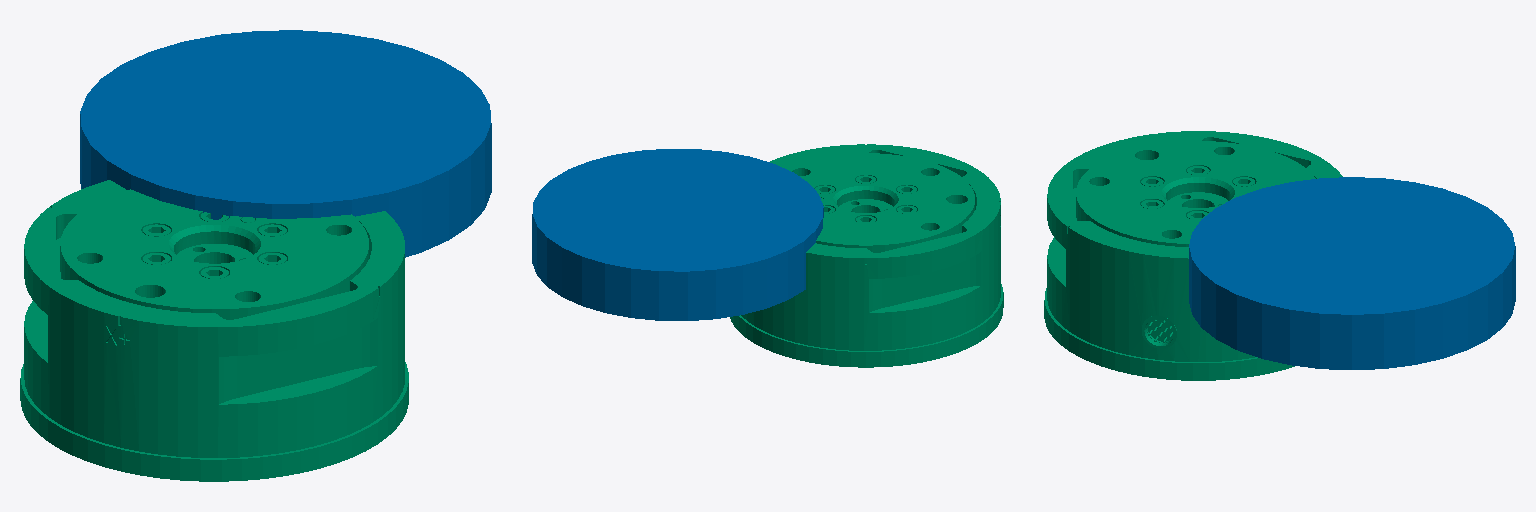
robot.urdf — iiwa14:
<?xml version="1.0" encoding="utf-8"?>
<!-- =================================================================================== -->
<!-- |    This document was autogenerated by xacro from iiwa14.urdf.xacro              | -->
<!-- |    EDITING THIS FILE BY HAND IS NOT RECOMMENDED                                 | -->
<!-- =================================================================================== -->
<robot name="iiwa14">
  <material name="Black">
    <color rgba="0.0 0.0 0.0 1.0"/>
  </material>
  <material name="Blue">
    <color rgba="0.0 0.0 0.8 1.0"/>
  </material>
  <material name="Green">
    <color rgba="0.0 0.8 0.0 1.0"/>
  </material>
  <material name="Grey">
    <color rgba="0.4 0.4 0.4 1.0"/>
  </material>
  <material name="Orange">
    <color rgba="1.0 0.423529411765 0.0392156862745 1.0"/>
  </material>
  <material name="Brown">
    <color rgba="0.870588235294 0.811764705882 0.764705882353 1.0"/>
  </material>
  <material name="Red">
    <color rgba="0.8 0.0 0.0 1.0"/>
  </material>
  <material name="White">
    <color rgba="1.0 1.0 1.0 1.0"/>
  </material>
  <!-- Fix to world just for testing -->
  <link name="iiwa_world">
    <inertial>
      <mass value="0"/>
      <inertia ixx="0.0" ixy="0" ixz="0" iyy="0.0" iyz="0" izz="0.0"/>
    </inertial>
  </link>
  <!-- joint between {parent} and link_0 -->
  <joint name="world_iiwa_joint" type="fixed">
    <origin rpy="0 0 0" xyz="0 0 0"/>
    <parent link="iiwa_world"/>
    <child link="iiwa_link_0"/>
  </joint>
  <link name="iiwa_link_0">
    <inertial>
      <origin rpy="0 0 0" xyz="-0.1 0 0.07"/>
      <mass value="5"/>
      <inertia ixx="0.05" ixy="0" ixz="0" iyy="0.06" iyz="0" izz="0.03"/>
    </inertial>
    <visual>
      <origin rpy="0 0 0" xyz="0 0 0"/>
      <geometry>
        <mesh filename="meshes/iiwa14/visual/link_0.stl"/>
      </geometry>
      <material name="Grey"/>
    </visual>
    <collision>
      <origin rpy="0 0 0" xyz="0 0 0"/>
      <geometry>
        <mesh filename="meshes/iiwa14/collision/link_0.stl"/>
      </geometry>
      <material name="Grey"/>
    </collision>
    <self_collision_checking>
      <origin rpy="0 0 0" xyz="0 0 0"/>
      <geometry>
        <capsule length="0.25" radius="0.15"/>
      </geometry>
    </self_collision_checking>
  </link>
  <!-- joint between link_0 and link_1 -->
  <joint name="iiwa_joint_1" type="revolute">
    <parent link="iiwa_link_0"/>
    <child link="iiwa_link_1"/>
    <origin rpy="0 0 0" xyz="0 0 0.1575"/>
    <axis xyz="0 0 1"/>
    <limit effort="300" lower="-2.96705972839" upper="2.96705972839" velocity="10"/>
    <safety_controller k_position="100" k_velocity="2" soft_lower_limit="-2.93215314335" soft_upper_limit="2.93215314335"/>
    <dynamics damping="0.5"/>
  </joint>
  <link name="iiwa_link_1">
    <inertial>
      <origin rpy="0 0 0" xyz="0 -0.03 0.12"/>
      <mass value="4"/>
      <inertia ixx="0.1" ixy="0" ixz="0" iyy="0.09" iyz="0" izz="0.02"/>
    </inertial>
    <visual>
      <origin rpy="0 0 0" xyz="0 0 0"/>
      <geometry>
        <mesh filename="meshes/iiwa14/visual/link_1.stl"/>
      </geometry>
      <material name="Orange"/>
    </visual>
    <collision>
      <origin rpy="0 0 0" xyz="0 0 0"/>
      <geometry>
        <mesh filename="meshes/iiwa14/collision/link_1.stl"/>
      </geometry>
      <material name="Orange"/>
    </collision>
  </link>
  <!-- joint between link_1 and link_2 -->
  <joint name="iiwa_joint_2" type="revolute">
    <parent link="iiwa_link_1"/>
    <child link="iiwa_link_2"/>
    <origin rpy="1.57079632679   0 3.14159265359" xyz="0 0 0.2025"/>
    <axis xyz="0 0 1"/>
    <limit effort="300" lower="-2.09439510239" upper="2.09439510239" velocity="10"/>
    <safety_controller k_position="100" k_velocity="2" soft_lower_limit="-2.05948851735" soft_upper_limit="2.05948851735"/>
    <dynamics damping="0.5"/>
  </joint>
  <link name="iiwa_link_2">
    <inertial>
      <origin rpy="0 0 0" xyz="0.0003 0.059 0.042"/>
      <mass value="4"/>
      <inertia ixx="0.05" ixy="0" ixz="0" iyy="0.018" iyz="0" izz="0.044"/>
    </inertial>
    <visual>
      <origin rpy="0 0 0" xyz="0 0 0"/>
      <geometry>
        <mesh filename="meshes/iiwa14/visual/link_2.stl"/>
      </geometry>
      <material name="Orange"/>
    </visual>
    <collision>
      <origin rpy="0 0 0" xyz="0 0 0"/>
      <geometry>
        <mesh filename="meshes/iiwa14/collision/link_2.stl"/>
      </geometry>
      <material name="Orange"/>
    </collision>
  </link>
  <!-- joint between link_2 and link_3 -->
  <joint name="iiwa_joint_3" type="revolute">
    <parent link="iiwa_link_2"/>
    <child link="iiwa_link_3"/>
    <origin rpy="1.57079632679 0 3.14159265359" xyz="0 0.2045 0"/>
    <axis xyz="0 0 1"/>
    <limit effort="300" lower="-2.96705972839" upper="2.96705972839" velocity="10"/>
    <safety_controller k_position="100" k_velocity="2" soft_lower_limit="-2.93215314335" soft_upper_limit="2.93215314335"/>
    <dynamics damping="0.5"/>
  </joint>
  <link name="iiwa_link_3">
    <inertial>
      <origin rpy="0 0 0" xyz="0 0.03 0.13"/>
      <mass value="3"/>
      <inertia ixx="0.08" ixy="0" ixz="0" iyy="0.075" iyz="0" izz="0.01"/>
    </inertial>
    <visual>
      <origin rpy="0 0 0" xyz="0 0 0"/>
      <geometry>
        <mesh filename="meshes/iiwa14/visual/link_3.stl"/>
      </geometry>
      <material name="Orange"/>
    </visual>
    <collision>
      <origin rpy="0 0 0" xyz="0 0 0"/>
      <geometry>
        <mesh filename="meshes/iiwa14/collision/link_3.stl"/>
      </geometry>
      <material name="Orange"/>
    </collision>
  </link>
  <!-- joint between link_3 and link_4 -->
  <joint name="iiwa_joint_4" type="revolute">
    <parent link="iiwa_link_3"/>
    <child link="iiwa_link_4"/>
    <origin rpy="1.57079632679 0 0" xyz="0 0 0.2155"/>
    <axis xyz="0 0 1"/>
    <limit effort="300" lower="-2.09439510239" upper="2.09439510239" velocity="10"/>
    <safety_controller k_position="100" k_velocity="2" soft_lower_limit="-2.05948851735" soft_upper_limit="2.05948851735"/>
    <dynamics damping="0.5"/>
  </joint>
  <link name="iiwa_link_4">
    <inertial>
      <origin rpy="0 0 0" xyz="0 0.067 0.034"/>
      <mass value="2.7"/>
      <inertia ixx="0.03" ixy="0" ixz="0" iyy="0.01" iyz="0" izz="0.029"/>
    </inertial>
    <visual>
      <origin rpy="0 0 0" xyz="0 0 0"/>
      <geometry>
        <mesh filename="meshes/iiwa14/visual/link_4.stl"/>
      </geometry>
      <material name="Orange"/>
    </visual>
    <collision>
      <origin rpy="0 0 0" xyz="0 0 0"/>
      <geometry>
        <mesh filename="meshes/iiwa14/collision/link_4.stl"/>
      </geometry>
      <material name="Orange"/>
    </collision>
  </link>
  <!-- joint between link_4 and link_5 -->
  <joint name="iiwa_joint_5" type="revolute">
    <parent link="iiwa_link_4"/>
    <child link="iiwa_link_5"/>
    <origin rpy="-1.57079632679 3.14159265359 0" xyz="0 0.1845 0"/>
    <axis xyz="0 0 1"/>
    <limit effort="300" lower="-2.96705972839" upper="2.96705972839" velocity="10"/>
    <safety_controller k_position="100" k_velocity="2" soft_lower_limit="-2.93215314335" soft_upper_limit="2.93215314335"/>
    <dynamics damping="0.5"/>
  </joint>
  <link name="iiwa_link_5">
    <inertial>
      <origin rpy="0 0 0" xyz="0.0001 0.021 0.076"/>
      <mass value="1.7"/>
      <inertia ixx="0.02" ixy="0" ixz="0" iyy="0.018" iyz="0" izz="0.005"/>
    </inertial>
    <visual>
      <origin rpy="0 0 0" xyz="0 0 0"/>
      <geometry>
        <mesh filename="meshes/iiwa14/visual/link_5.stl"/>
      </geometry>
      <material name="Orange"/>
    </visual>
    <collision>
      <origin rpy="0 0 0" xyz="0 0 0"/>
      <geometry>
        <mesh filename="meshes/iiwa14/collision/link_5.stl"/>
      </geometry>
      <material name="Orange"/>
    </collision>
  </link>
  <!-- joint between link_5 and link_6 -->
  <joint name="iiwa_joint_6" type="revolute">
    <parent link="iiwa_link_5"/>
    <child link="iiwa_link_6"/>
    <origin rpy="1.57079632679 0 0" xyz="0 0 0.2155"/>
    <axis xyz="0 0 1"/>
    <limit effort="300" lower="-2.09439510239" upper="2.09439510239" velocity="10"/>
    <safety_controller k_position="100" k_velocity="2" soft_lower_limit="-2.05948851735" soft_upper_limit="2.05948851735"/>
    <dynamics damping="0.5"/>
  </joint>
  <link name="iiwa_link_6">
    <inertial>
      <origin rpy="0 0 0" xyz="0 0.0006 0.0004"/>
      <mass value="1.8"/>
      <inertia ixx="0.005" ixy="0" ixz="0" iyy="0.0036" iyz="0" izz="0.0047"/>
    </inertial>
    <visual>
      <origin rpy="0 0 0" xyz="0 0 0"/>
      <geometry>
        <mesh filename="meshes/iiwa14/visual/link_6.stl"/>
      </geometry>
      <material name="Orange"/>
    </visual>
    <collision>
      <origin rpy="0 0 0" xyz="0 0 0"/>
      <geometry>
        <mesh filename="meshes/iiwa14/collision/link_6.stl"/>
      </geometry>
      <material name="Orange"/>
    </collision>
  </link>
  <!-- joint between link_6 and link_7 -->
  <joint name="iiwa_joint_7" type="revolute">
    <parent link="iiwa_link_6"/>
    <child link="iiwa_link_7"/>
    <origin rpy="-1.57079632679 3.14159265359 0" xyz="0 0.081 0"/>
    <axis xyz="0 0 1"/>
    <limit effort="300" lower="-3.05432619099" upper="3.05432619099" velocity="10"/>
    <safety_controller k_position="100" k_velocity="2" soft_lower_limit="-3.01941960595" soft_upper_limit="3.01941960595"/>
    <dynamics damping="0.5"/>
  </joint>
  <link name="iiwa_link_7">
    <inertial>
      <origin rpy="0 0 0" xyz="0 0 0.02"/>
      <mass value="0.3"/>
      <inertia ixx="0.001" ixy="0" ixz="0" iyy="0.001" iyz="0" izz="0.001"/>
    </inertial>
    <visual>
      <origin rpy="0 0 0" xyz="0 0 0"/>
      <geometry>
        <mesh filename="meshes/iiwa14/visual/link_7.stl"/>
      </geometry>
      <material name="Grey"/>
    </visual>
    <collision>
      <origin rpy="0 0 0" xyz="0 0 0"/>
      <geometry>
        <mesh filename="meshes/iiwa14/collision/link_7.stl"/>
      </geometry>
      <material name="Grey"/>
    </collision>
  </link>
  <!-- <joint name="iiwa_joint_ee" type="fixed">
    <parent link="iiwa_link_7"/>
    <child link="iiwa_link_ee"/>
    <origin rpy="0 0 0" xyz="0 0 0.045"/>
  </joint>
  <link name="iiwa_link_ee">
    <inertial>
        <mass value="0.000001"/>
        <origin xyz="-0.0000 0.00 0.0"/>
        <inertia ixx="0.0000001" ixy="0.000000" ixz="0.000000" iyy="0.0000001" iyz="0.000000" izz="0.0000001"/>
    </inertial>
    </link> -->
    <joint name="iiwa_joint_8" type="fixed">
        <parent link="iiwa_link_7"/>
        <child link="adaptor_kuka"/>
        <origin rpy="0 0 3.14159265359" xyz="0 0 0.032"/>
    </joint>
    <link name="adaptor_kuka">
        <inertial>
            <mass value="0.1"/>
            <origin xyz="0 0 0"/>
            <inertia ixx="0.01" ixy="0" ixz="0" iyy="0.01" iyz="0" izz="0.01"/>
        </inertial>
        <visual>
            <origin rpy="0 0 0" xyz="0 0 0.0"/>
            <geometry>
                <mesh filename="meshes/iiwa14/visual/adaptor_kuka.stl" scale="0.001 0.001 0.001"/>
            </geometry>
            <material name="Black"/>
        </visual>

        <collision>
            <origin rpy="0 0 0" xyz="0 0 0"/>
            <geometry>
                <mesh filename="meshes/iiwa14/visual/adaptor_kuka.stl" scale="0.001 0.001 0.001"/>
            </geometry>
        </collision>
    </link>
    <joint name="force_torque_sensor_mount" type="fixed">
        <origin rpy="0 0 0" xyz="0 0 0.0453"/>
        <parent link="adaptor_kuka"/>
        <child link="force_torque_sensor"/>
    </joint>
    <link name="force_torque_sensor">
        <inertial>
            <mass value="0.5"/>
            <origin xyz="-0.000007 0.001524 0.027591"/>
            <inertia ixx="0.0333333333333" ixy="0" ixz="0" iyy="0.0333333333333" iyz="0" izz="0.0333333333333"/>
        </inertial>
        <visual>
            <origin rpy="0 0 0" xyz="0 0 0"/>
            <material name="Silver"/>
            <geometry>
                <mesh filename="meshes/iiwa14/visual/force_sensor.stl" scale="0.001 0.001 0.001"/>
            </geometry>
        </visual>

        <collision>
            <origin rpy="0 0 0" xyz="0 0 -0.0333"/>
            <geometry>
                <cylinder length="0.0333" radius="0.04"/>
            </geometry>
        </collision>
    </link>
    <joint name="end_effector_joint" type="fixed">
        <origin rpy="0 0 0.0" xyz="0 0 0.02"/>
        <parent link="force_torque_sensor"/>
        <child link="end_effector"/>
    </joint>
    <link name="end_effector">
        <inertial>
            <mass value="1"/>
            <origin xyz="-0.000007 0.001524 0.027591"/>
            <inertia ixx="0.00409836" ixy="0.000000" ixz="0.000000" iyy="0.00061475" iyz="0.000000" izz="0.00409836"/>
        </inertial>
        <visual>
            <origin rpy="0 0 0" xyz="0 0 0"/>
            <material name="Black"/>
            <geometry>
                <mesh filename="meshes/iiwa14/visual/adaptor_endeffector.stl" scale="0.001 0.001 0.001"/>
            </geometry>
            <material name="Black"/>
        </visual>
        <collision>
            <geometry>
                <mesh filename="meshes/iiwa14/visual/adaptor_endeffector.stl" scale="0.001 0.001 0.001"/>
            </geometry>
        </collision>
    </link>
    <joint name="end_effector_joint_sponge" type="fixed">
        <origin rpy="0 0 0.0" xyz="0 0 0.015"/>
        <parent link="end_effector"/>
        <child link="end_effector_sponge"/>
    </joint>
    <link name="end_effector_sponge">
        <inertial>
            <mass value="1"/>
            <origin xyz="-0.000007 0.001524 0.027591"/>
            <inertia ixx="0.00409836" ixy="0.000000" ixz="0.000000" iyy="0.00061475" iyz="0.000000" izz="0.00409836"/>
        </inertial>
        <visual>
            <origin rpy="0 0 0" xyz="0 0 -0.006"/>
            <geometry>
                <cylinder length="0.015" radius="0.04"/>
            </geometry>
            <material name="Silver"/>
        </visual>
        <collision>
            <origin rpy="0 0 0" xyz="0 0 -0.006"/>
            <geometry>
                <cylinder length="0.015" radius="0.04"/>
            </geometry>
        </collision>
    </link>
  <!-- Enable the Joint Feedback -->
  <gazebo reference="iiwa_joint_7">
    <provideFeedback>true</provideFeedback>
  </gazebo>
  <!-- The ft_sensor plugin -->
  <gazebo>
    <plugin filename="libgazebo_ros_ft_sensor.so" name="ft_sensor">
      <updateRate>50.0</updateRate>
      <topicName>/iiwa/state/CartesianWrench</topicName>
      <jointName>iiwa_joint_7</jointName>
    </plugin>
  </gazebo>
  <!-- Load Gazebo lib and set the robot namespace -->
  <gazebo>
    <plugin filename="libgazebo_ros_control.so" name="gazebo_ros_control">
      <robotNamespace>/iiwa</robotNamespace>
    </plugin>
  </gazebo>
  <!-- Link0 -->
  <gazebo reference="iiwa_link_0">
    <material>Gazebo/Grey</material>
    <mu1>0.2</mu1>
    <mu2>0.2</mu2>
  </gazebo>
  <!-- Link1 -->
  <gazebo reference="iiwa_link_1">
    <material>Gazebo/Orange</material>
    <mu1>0.2</mu1>
    <mu2>0.2</mu2>
  </gazebo>
  <!-- Link2 -->
  <gazebo reference="iiwa_link_2">
    <material>Gazebo/Orange</material>
    <mu1>0.2</mu1>
    <mu2>0.2</mu2>
  </gazebo>
  <!-- Link3 -->
  <gazebo reference="iiwa_link_3">
    <material>Gazebo/Orange</material>
    <mu1>0.2</mu1>
    <mu2>0.2</mu2>
  </gazebo>
  <!-- Link4 -->
  <gazebo reference="iiwa_link_4">
    <material>Gazebo/Orange</material>
    <mu1>0.2</mu1>
    <mu2>0.2</mu2>
  </gazebo>
  <!-- Link5 -->
  <gazebo reference="iiwa_link_5">
    <material>Gazebo/Orange</material>
    <mu1>0.2</mu1>
    <mu2>0.2</mu2>
  </gazebo>
  <!-- Link6 -->
  <gazebo reference="iiwa_link_6">
    <material>Gazebo/Orange</material>
    <mu1>0.2</mu1>
    <mu2>0.2</mu2>
  </gazebo>
  <!-- Link7 -->
  <gazebo reference="iiwa_link_7">
    <material>Gazebo/Grey</material>
    <mu1>0.2</mu1>
    <mu2>0.2</mu2>
  </gazebo>
  <transmission name="iiwa_tran_1">
    <robotNamespace>/iiwa</robotNamespace>
    <type>transmission_interface/SimpleTransmission</type>
    <joint name="iiwa_joint_1">
      <hardwareInterface>hardware_interface/PositionJointInterface</hardwareInterface>
    </joint>
    <actuator name="iiwa_motor_1">
      <hardwareInterface>hardware_interface/PositionJointInterface</hardwareInterface>
      <mechanicalReduction>1</mechanicalReduction>
    </actuator>
  </transmission>
  <transmission name="iiwa_tran_2">
    <robotNamespace>/iiwa</robotNamespace>
    <type>transmission_interface/SimpleTransmission</type>
    <joint name="iiwa_joint_2">
      <hardwareInterface>hardware_interface/PositionJointInterface</hardwareInterface>
    </joint>
    <actuator name="iiwa_motor_2">
      <hardwareInterface>hardware_interface/PositionJointInterface</hardwareInterface>
      <mechanicalReduction>1</mechanicalReduction>
    </actuator>
  </transmission>
  <transmission name="iiwa_tran_3">
    <robotNamespace>/iiwa</robotNamespace>
    <type>transmission_interface/SimpleTransmission</type>
    <joint name="iiwa_joint_3">
      <hardwareInterface>hardware_interface/PositionJointInterface</hardwareInterface>
    </joint>
    <actuator name="iiwa_motor_3">
      <hardwareInterface>hardware_interface/PositionJointInterface</hardwareInterface>
      <mechanicalReduction>1</mechanicalReduction>
    </actuator>
  </transmission>
  <transmission name="iiwa_tran_4">
    <robotNamespace>/iiwa</robotNamespace>
    <type>transmission_interface/SimpleTransmission</type>
    <joint name="iiwa_joint_4">
      <hardwareInterface>hardware_interface/PositionJointInterface</hardwareInterface>
    </joint>
    <actuator name="iiwa_motor_4">
      <hardwareInterface>hardware_interface/PositionJointInterface</hardwareInterface>
      <mechanicalReduction>1</mechanicalReduction>
    </actuator>
  </transmission>
  <transmission name="iiwa_tran_5">
    <robotNamespace>/iiwa</robotNamespace>
    <type>transmission_interface/SimpleTransmission</type>
    <joint name="iiwa_joint_5">
      <hardwareInterface>hardware_interface/PositionJointInterface</hardwareInterface>
    </joint>
    <actuator name="iiwa_motor_5">
      <hardwareInterface>hardware_interface/PositionJointInterface</hardwareInterface>
      <mechanicalReduction>1</mechanicalReduction>
    </actuator>
  </transmission>
  <transmission name="iiwa_tran_6">
    <robotNamespace>/iiwa</robotNamespace>
    <type>transmission_interface/SimpleTransmission</type>
    <joint name="iiwa_joint_6">
      <hardwareInterface>hardware_interface/PositionJointInterface</hardwareInterface>
    </joint>
    <actuator name="iiwa_motor_6">
      <hardwareInterface>hardware_interface/PositionJointInterface</hardwareInterface>
      <mechanicalReduction>1</mechanicalReduction>
    </actuator>
  </transmission>
  <transmission name="iiwa_tran_7">
    <robotNamespace>/iiwa</robotNamespace>
    <type>transmission_interface/SimpleTransmission</type>
    <joint name="iiwa_joint_7">
      <hardwareInterface>hardware_interface/PositionJointInterface</hardwareInterface>
    </joint>
    <actuator name="iiwa_motor_7">
      <hardwareInterface>hardware_interface/PositionJointInterface</hardwareInterface>
      <mechanicalReduction>1</mechanicalReduction>
    </actuator>
  </transmission>
</robot>

--- Render facts (derived) ---
3 views of the same robot in one strip: view 1: azimuth 30°, elevation 25°; view 2: azimuth 150°, elevation 25°; view 3: azimuth 270°, elevation 25° (orthographic).
Model iiwa14 with 13 links and 12 joints (7 revolute, 5 fixed), rooted at iiwa_world, posed every joint at zero.
Visible links, largest first — view 1: force_torque_sensor, end_effector_sponge; view 2: force_torque_sensor, end_effector_sponge; view 3: end_effector_sponge, force_torque_sensor.
Link boxes in pixels (bbox=[...]): force_torque_sensor: bbox=[20, 180, 408, 481]; end_effector_sponge: bbox=[80, 30, 491, 257]; force_torque_sensor: bbox=[730, 144, 1003, 367]; end_effector_sponge: bbox=[532, 149, 823, 320]; end_effector_sponge: bbox=[1189, 177, 1515, 369]; force_torque_sensor: bbox=[1044, 131, 1342, 380].
Bounding box of the posed robot: 0.1154 × 0.1154 × 0.0365 m (x, y, z).
Meshes: 11 distinct files referenced, 1 mesh visuals loaded (1 binary STL); not drawn: 10 (reference not matched to a file when rendering).